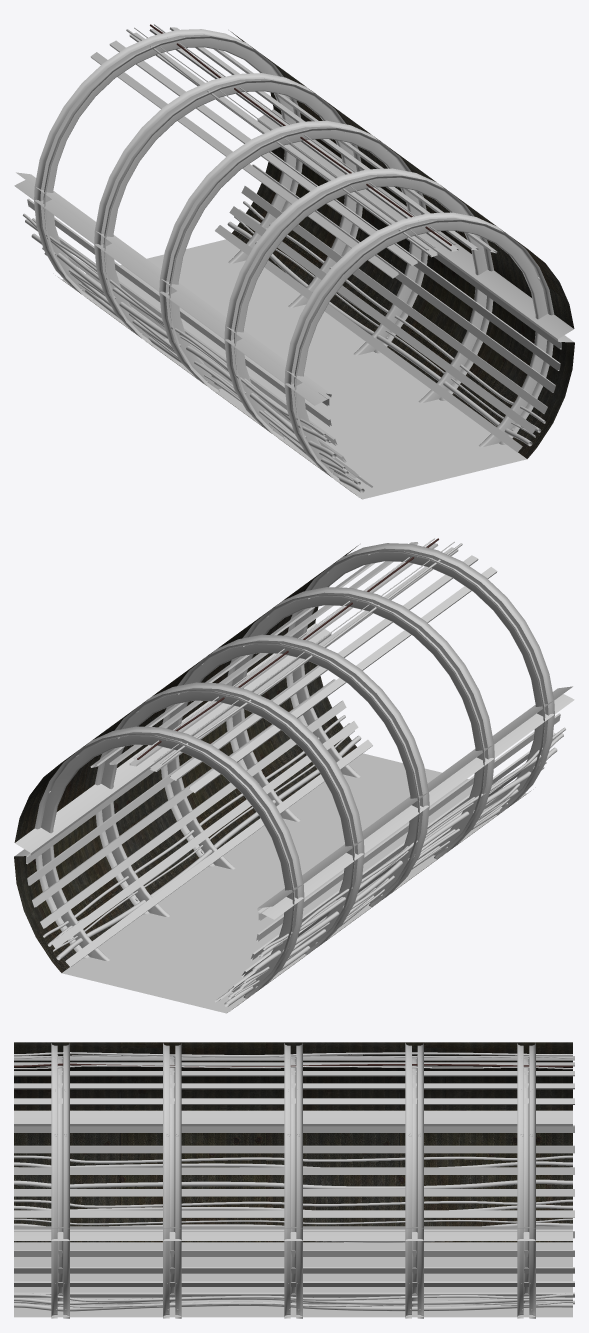
The model's file is tunnel_1.fbx.
The picture shows the model from 3 angles, top to bottom: view 1: azimuth 30°, elevation 25°; view 2: azimuth 150°, elevation 25°; view 3: azimuth 270°, elevation 25°; orthographic projection. The views are drawn at different scales.
Visible parts, largest first — view 1: tunnel_1; view 2: tunnel_1; view 3: tunnel_1.
Boxes of the visible parts, x1,y1,x2,y2 form: tunnel_1: [14, 24, 574, 499]; tunnel_1: [14, 538, 574, 1013]; tunnel_1: [14, 1042, 574, 1318].
Bounding box in the file's own units: 3 × 6.02 × 2.69.
